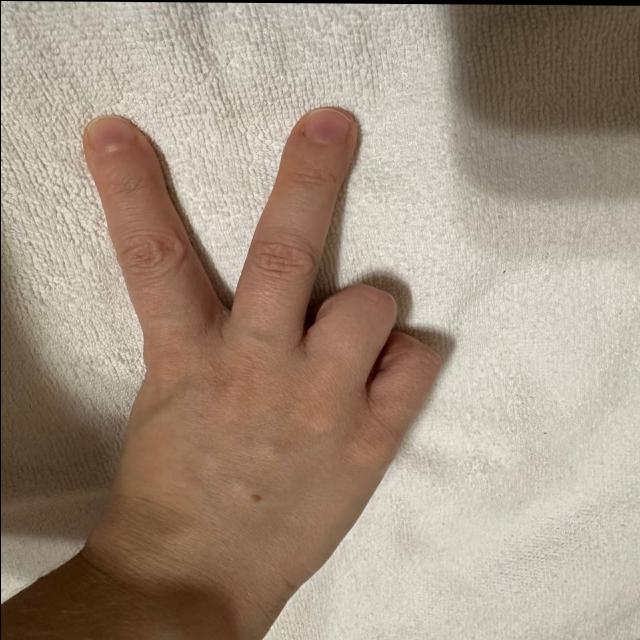l: (47, 89, 471, 549)
